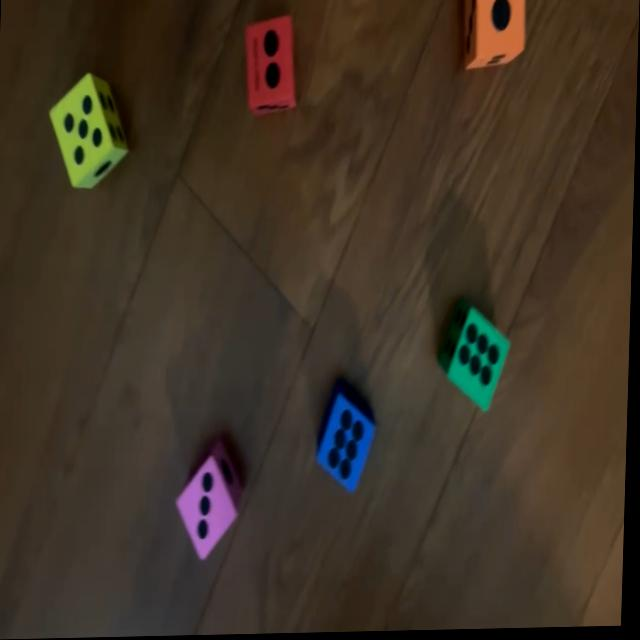blue_block: (317, 386, 381, 495)
red_block: (241, 18, 297, 118)
